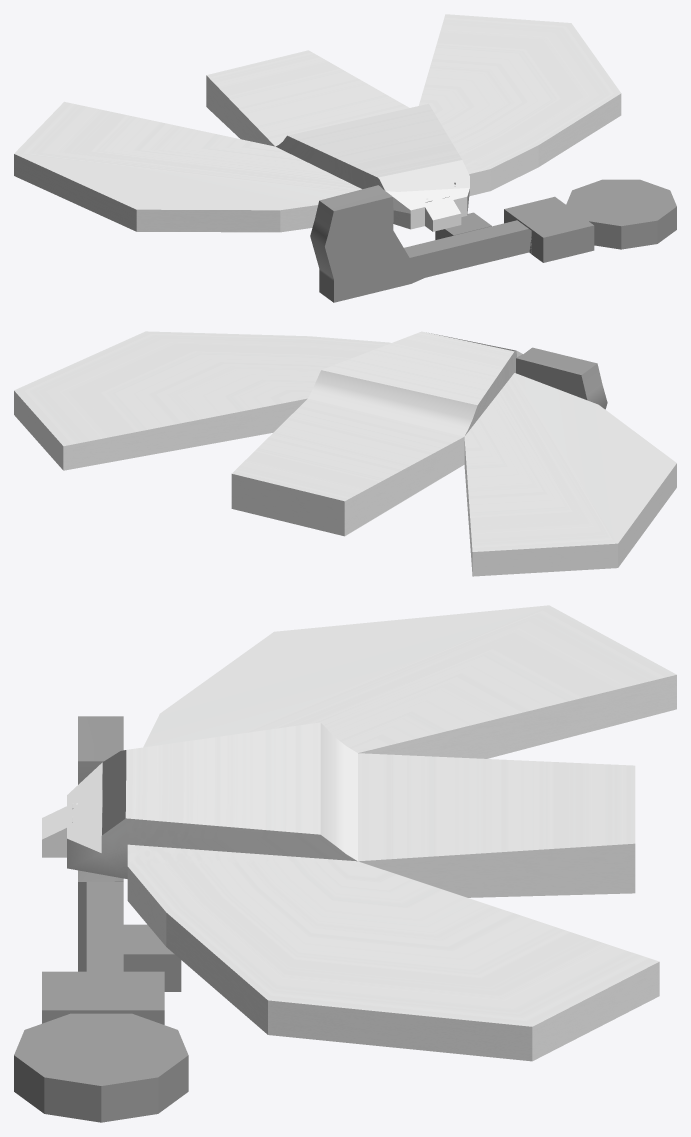
File: edited_map (5).fbx
3 renders of one model, top to bottom at view 1: azimuth 30°, elevation 25°; view 2: azimuth 150°, elevation 25°; view 3: azimuth 270°, elevation 25°, orthographic. The views are drawn at different scales.
Visible parts, largest first — view 1: polySurface594; view 2: polySurface594; view 3: polySurface594.
Part boxes in pixels (left/top/right/bottom): polySurface594: left=14, top=14, right=676, bottom=302; polySurface594: left=14, top=331, right=676, bottom=576; polySurface594: left=14, top=605, right=676, bottom=1122.
Bounding box in the file's own units: 98.62 × 17.61 × 65.55.
5 materials, 3 textured.
